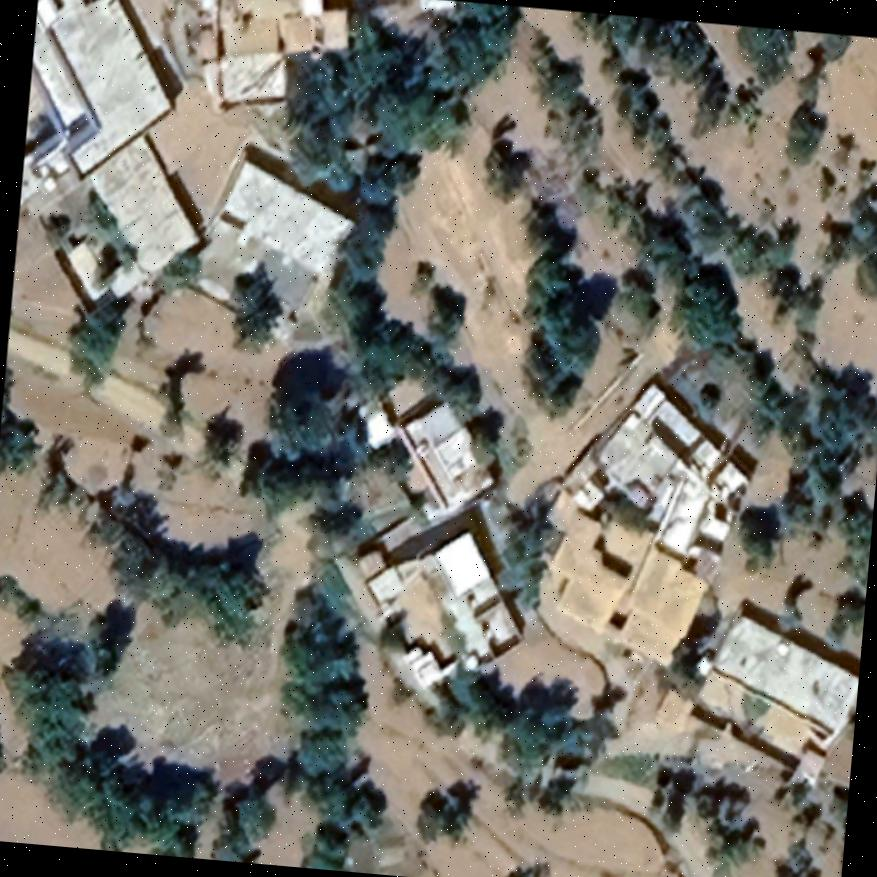Solarpanel: (65, 0, 115, 10)
